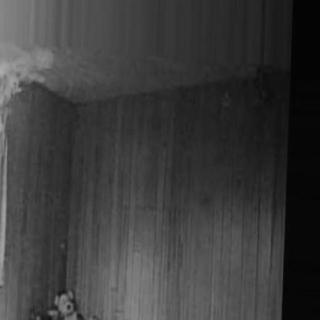Fire: (1, 27, 47, 236)
